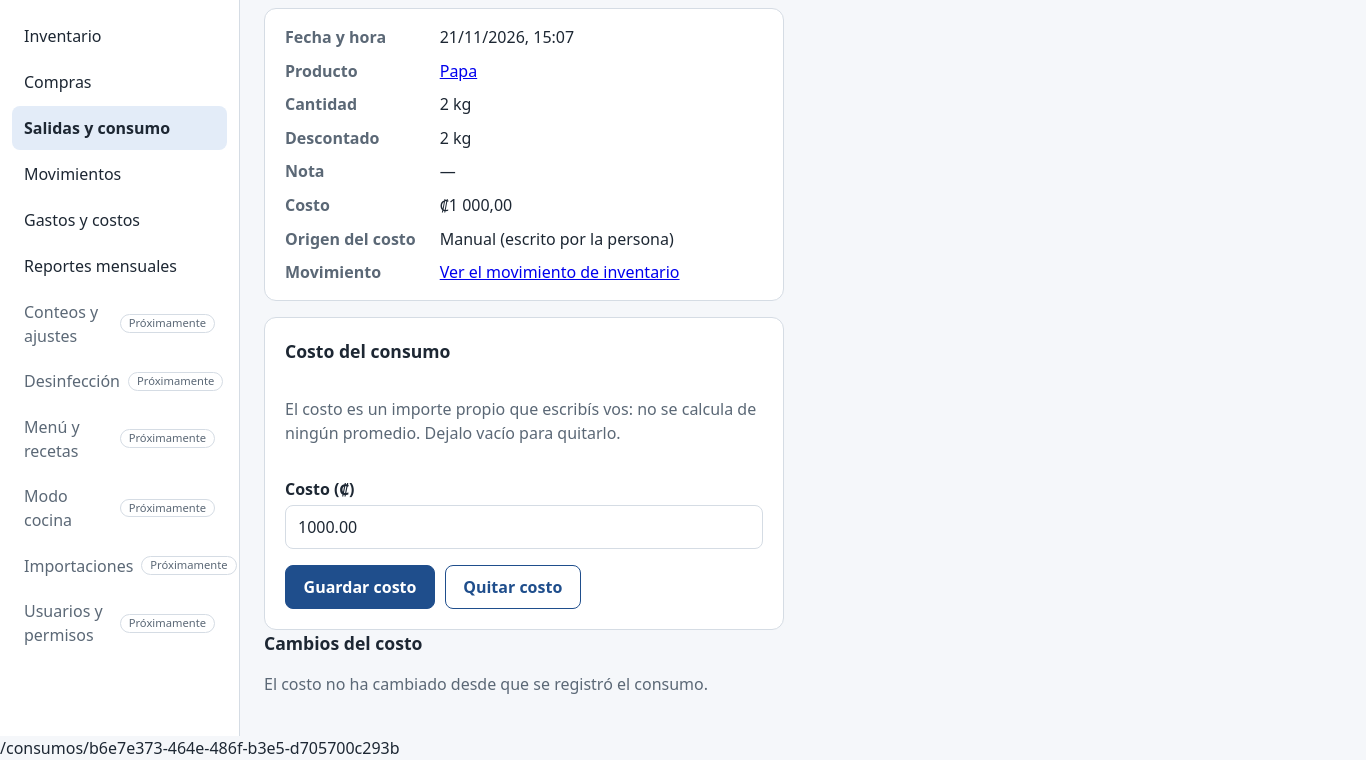
detalle del consumo y edición de su costo › cambiar el costo conserva el valor anterior en el historial, y quitarlo lo deja como faltante
The width and height of the screenshot is (1366, 760).
(page scrolled)
Replace the text in the field labelled "Costo (₡)" with "1350,75" at (524, 526), box [285,504,763,548]
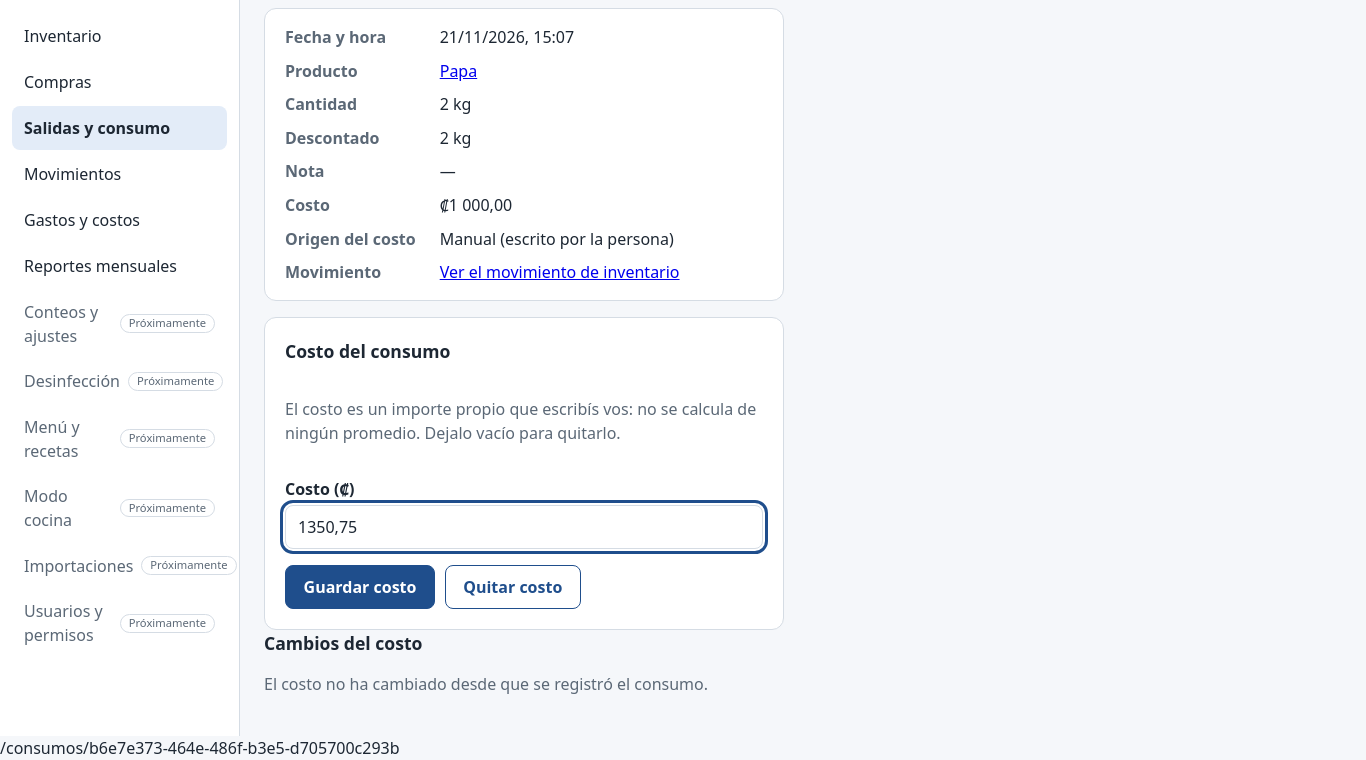
Click the button "Guardar costo" at (360, 586), box [285,564,435,608]
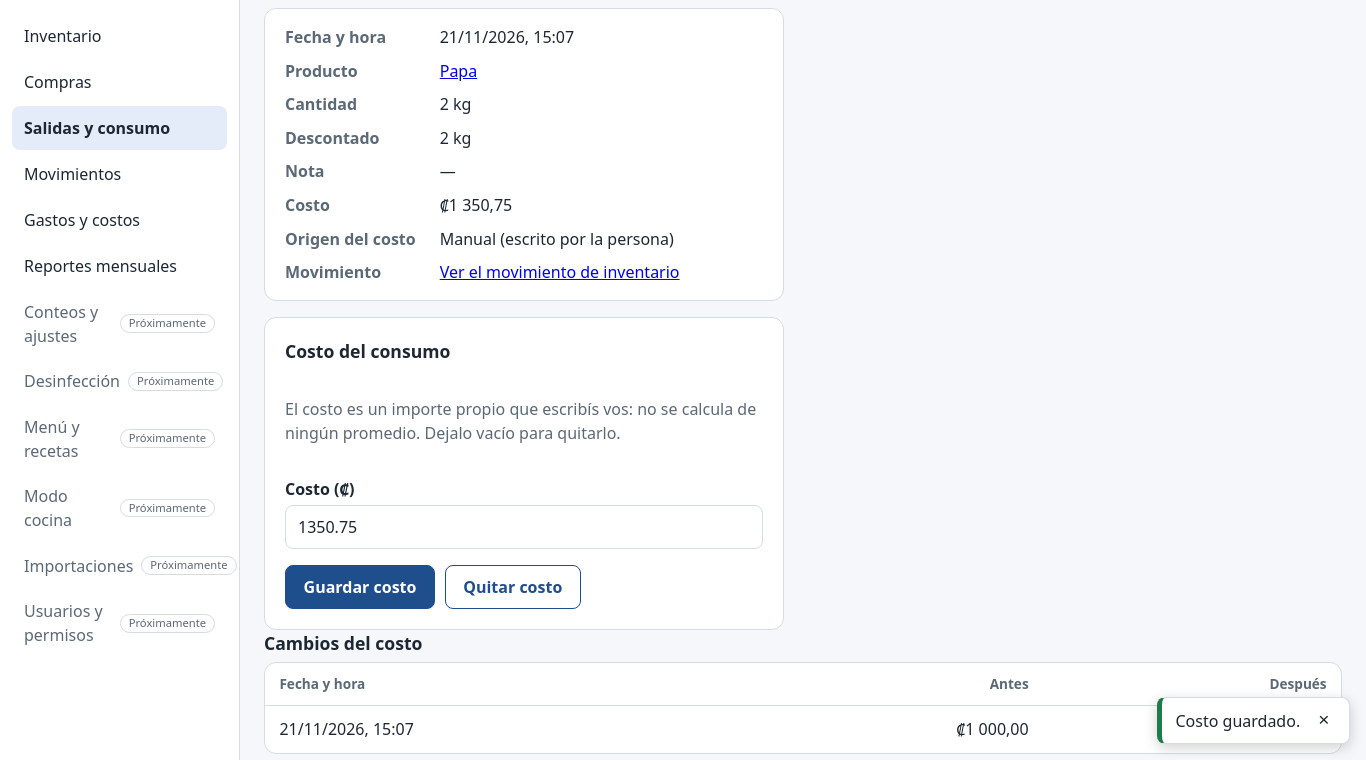
Click the button "Quitar costo" at (513, 586), box [445,564,581,608]
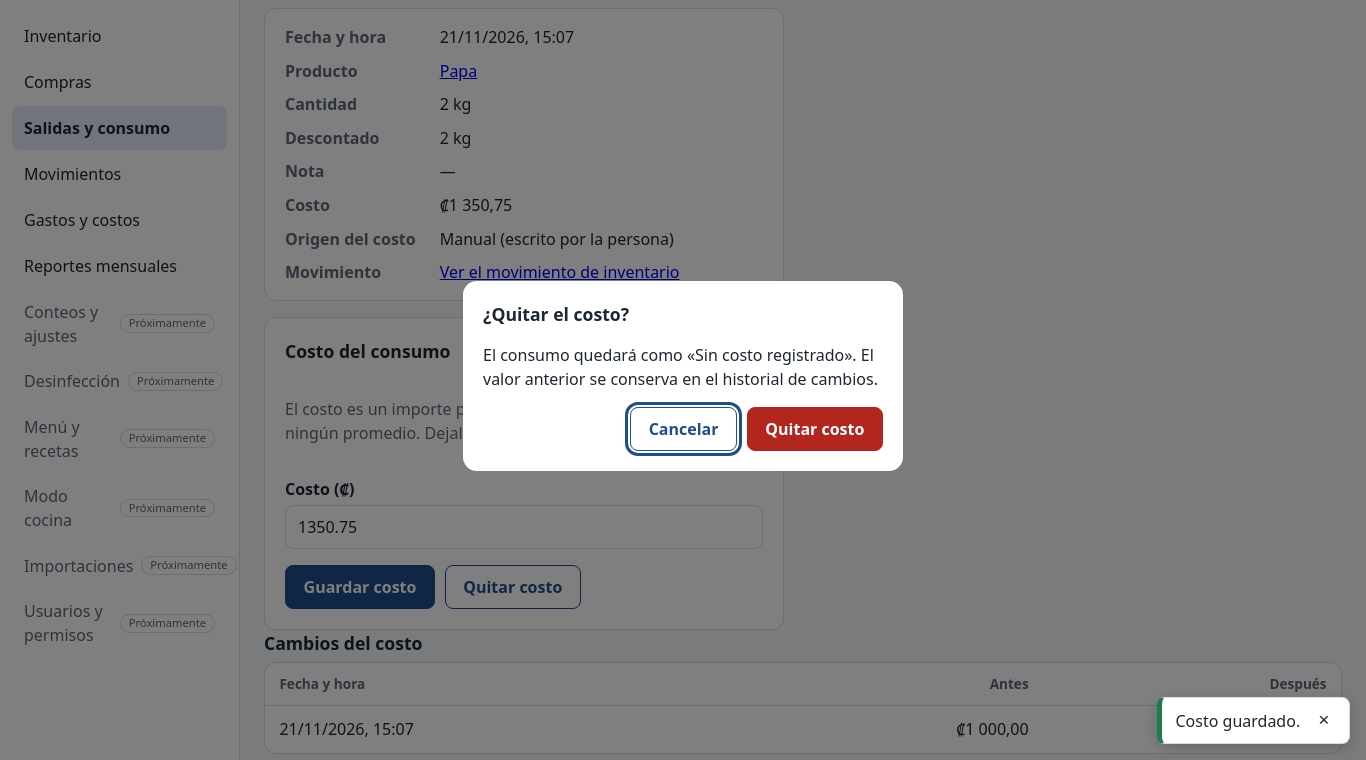
Check: the dialog shows "¿Quitar el costo?", box [483,302,629,326]
Check: the dialog shows "El valor anterior se conserva en el historial de cambios.", box [483,344,878,390]
Click the button "Quitar costo" at (815, 429), box [747,407,883,451]
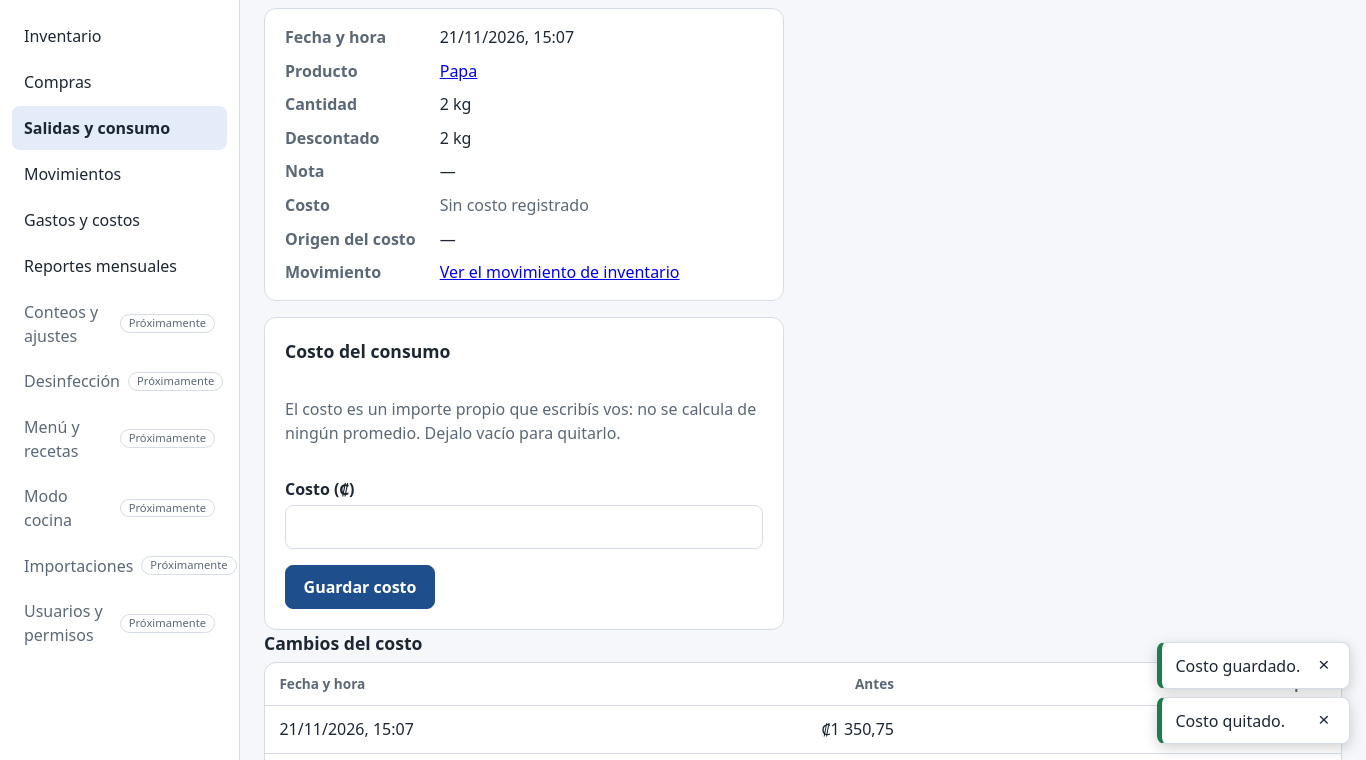
Check: the text "Costo quitado." is shown, box [1176,709,1285,733]
Check: the element showing "Sin costo registrado" is shown, box [440,194,589,216]
